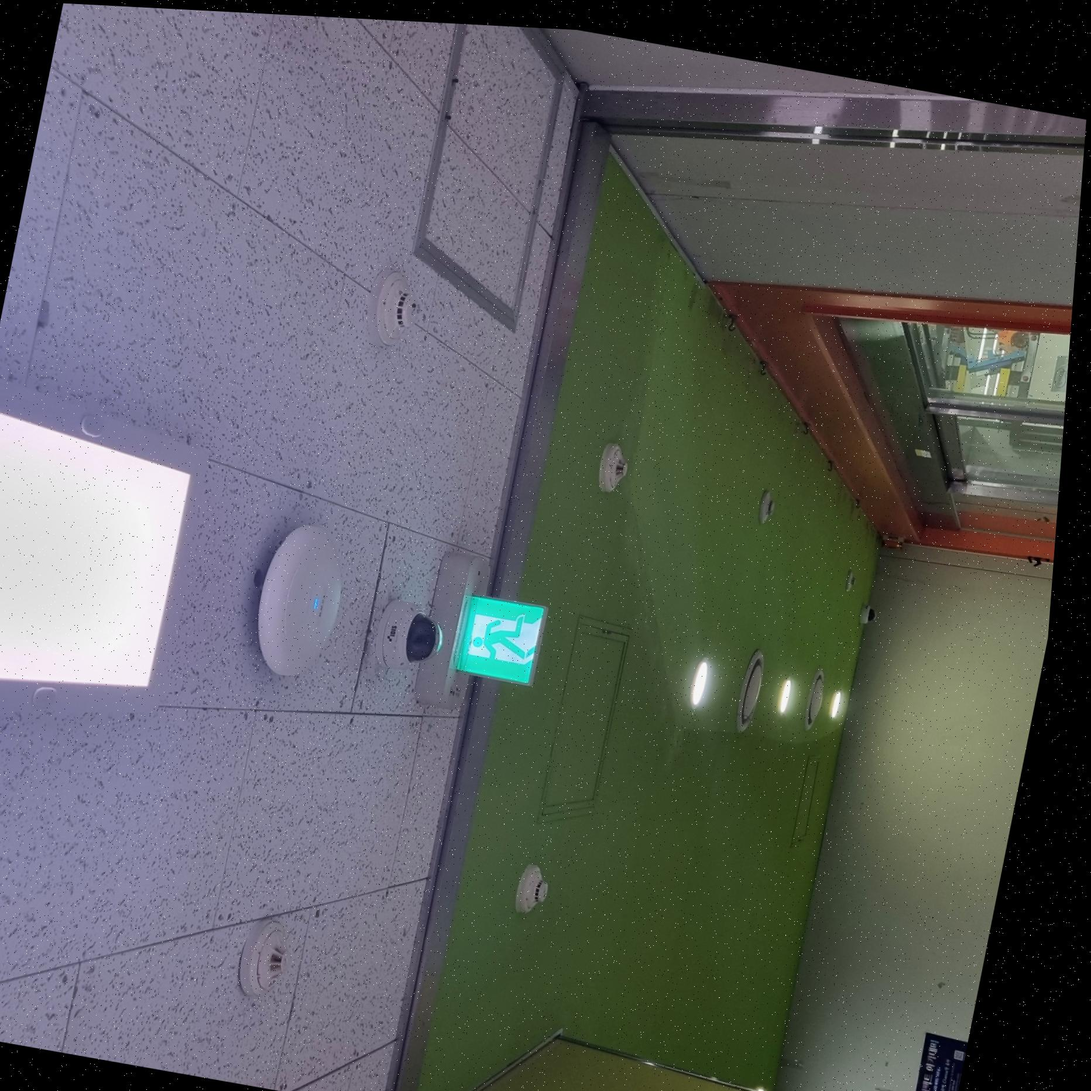emergency_exit: (449, 593, 547, 687)
